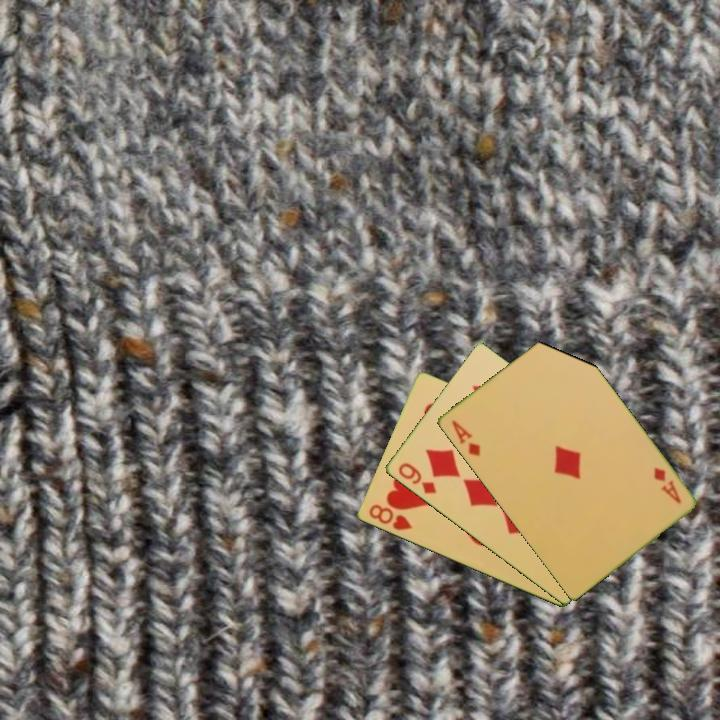8h: (365, 501, 415, 534)
9d: (394, 459, 439, 497)
Ad: (447, 417, 483, 459), (650, 464, 684, 507)
